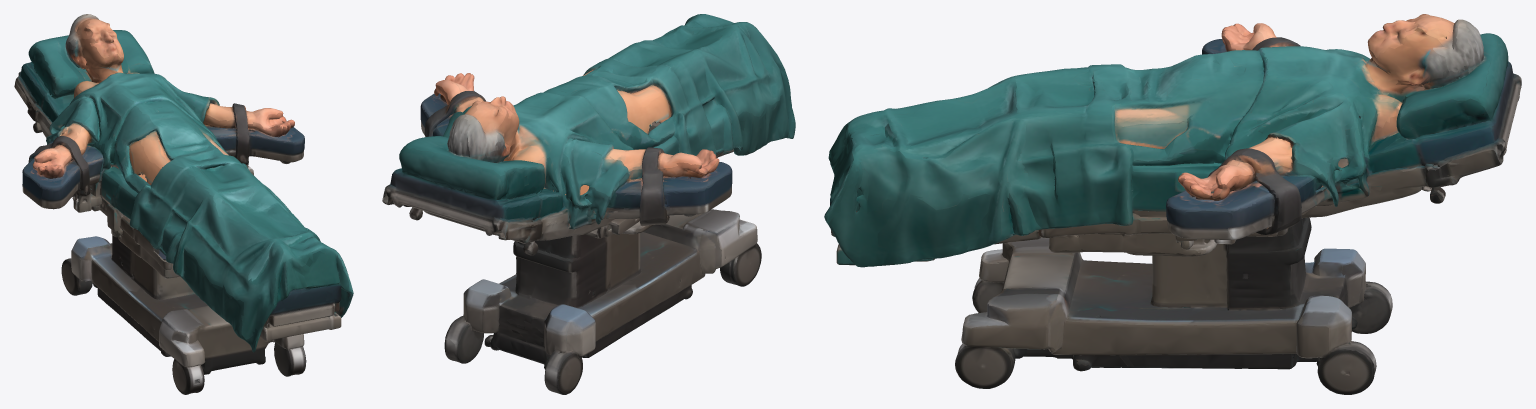
File: bed.glb
3 renders of one model, left to right at view 1: azimuth 30°, elevation 25°; view 2: azimuth 150°, elevation 25°; view 3: azimuth 270°, elevation 25°, orthographic. The views are drawn at different scales.
Parts seen in each view (by area): view 1: Lin_Lux3D_Operating_Bed_Ensemble; view 2: Lin_Lux3D_Operating_Bed_Ensemble; view 3: Lin_Lux3D_Operating_Bed_Ensemble.
Part boxes in pixels (x1,y1,x2,y2): Lin_Lux3D_Operating_Bed_Ensemble: [14, 14, 353, 394]; Lin_Lux3D_Operating_Bed_Ensemble: [382, 14, 795, 394]; Lin_Lux3D_Operating_Bed_Ensemble: [824, 14, 1521, 394].
Bounding box in the file's own units: 1.24 × 1.15 × 2.12.
Materials: 2 (1 with a texture image).
